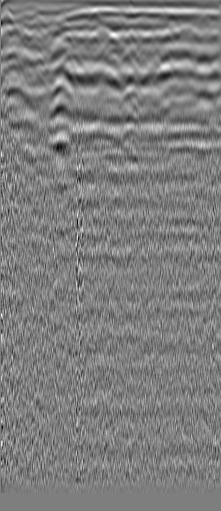오수: (25, 13, 45, 33)
우수: (175, 22, 200, 44)
